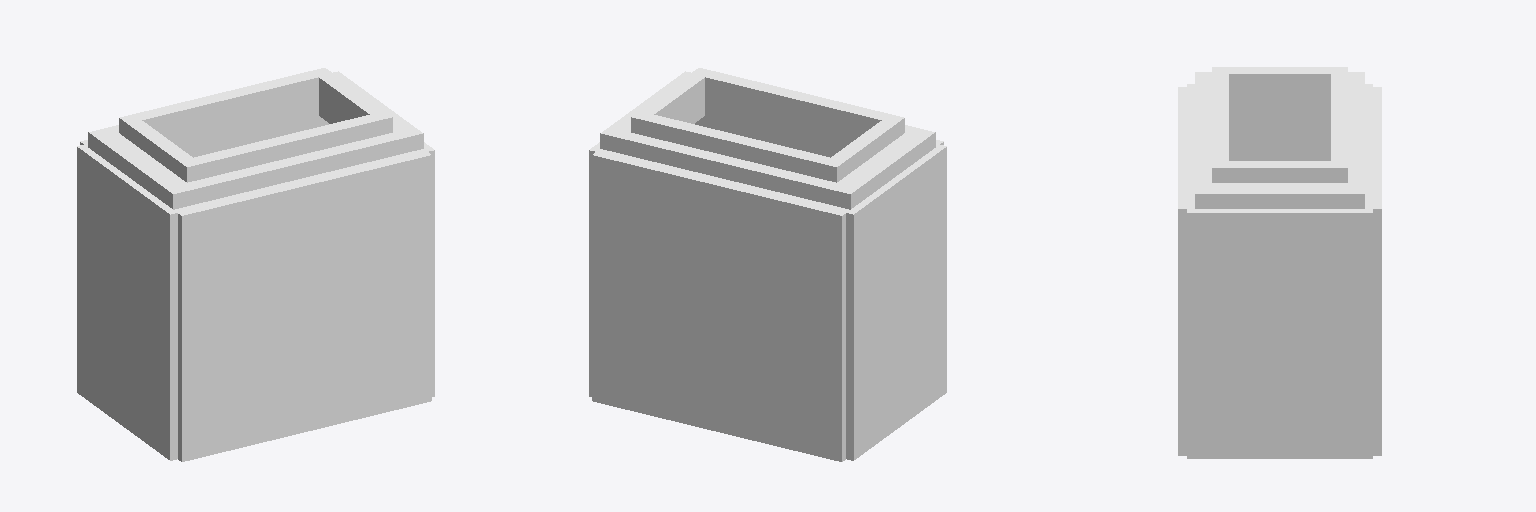
The model's file is humanoid-75.obj.
The picture shows the model from 3 angles: view 1: azimuth 30°, elevation 25°; view 2: azimuth 150°, elevation 25°; view 3: azimuth 270°, elevation 25°; orthographic projection.
Parts seen in each view (by area): view 1: humanoid-75; view 2: humanoid-75; view 3: humanoid-75.
Boxes of the visible parts, box(x1,y1,x2,y2) form: humanoid-75: box(77, 68, 434, 461); humanoid-75: box(589, 68, 946, 461); humanoid-75: box(1178, 67, 1381, 458).
Size of the model in its own units: 36 by 36 by 24.